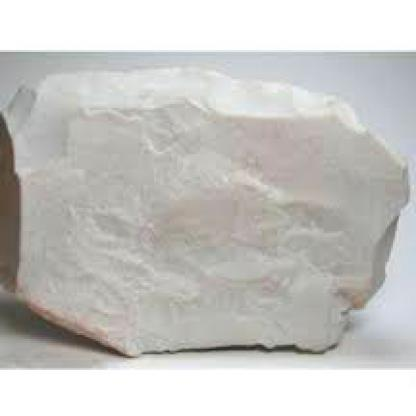Metamorphic_Quartize: (2, 65, 408, 364)
